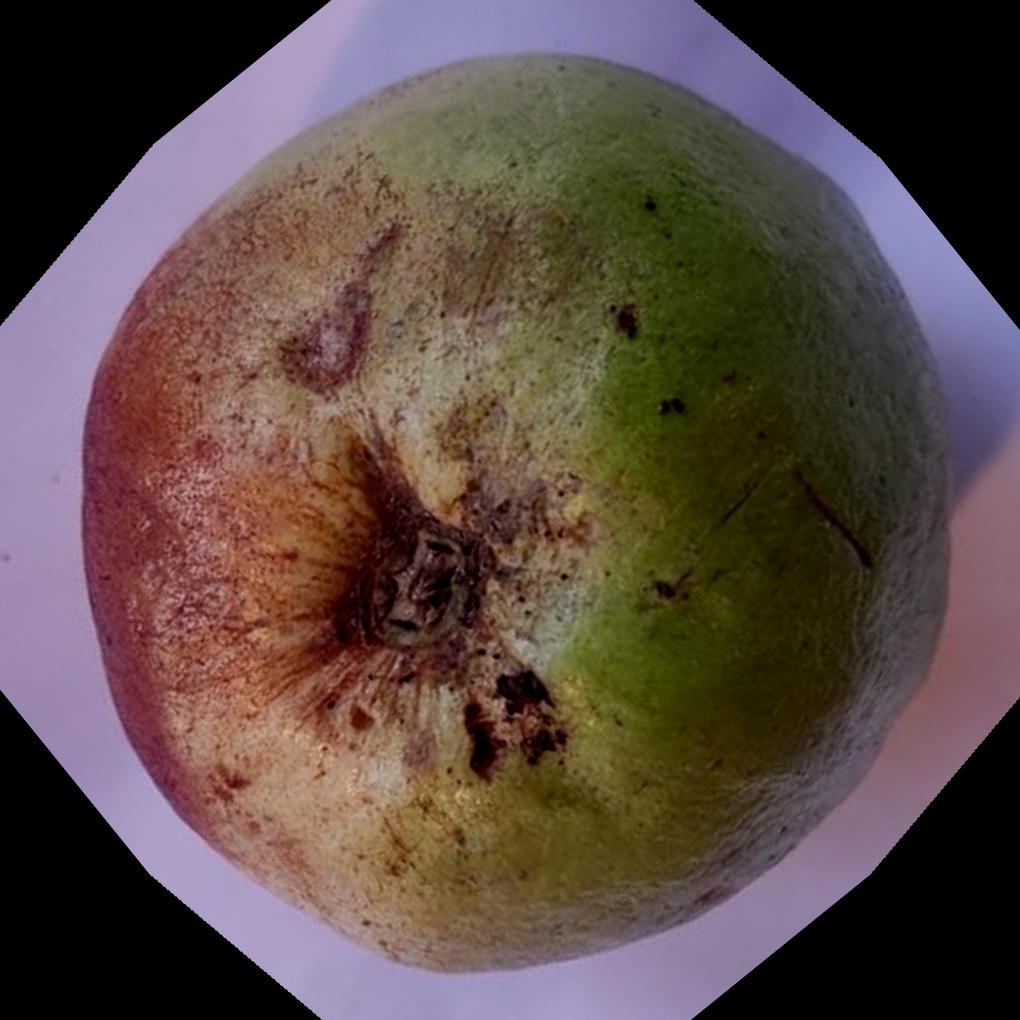FreshOrange: (76, 47, 954, 974)
